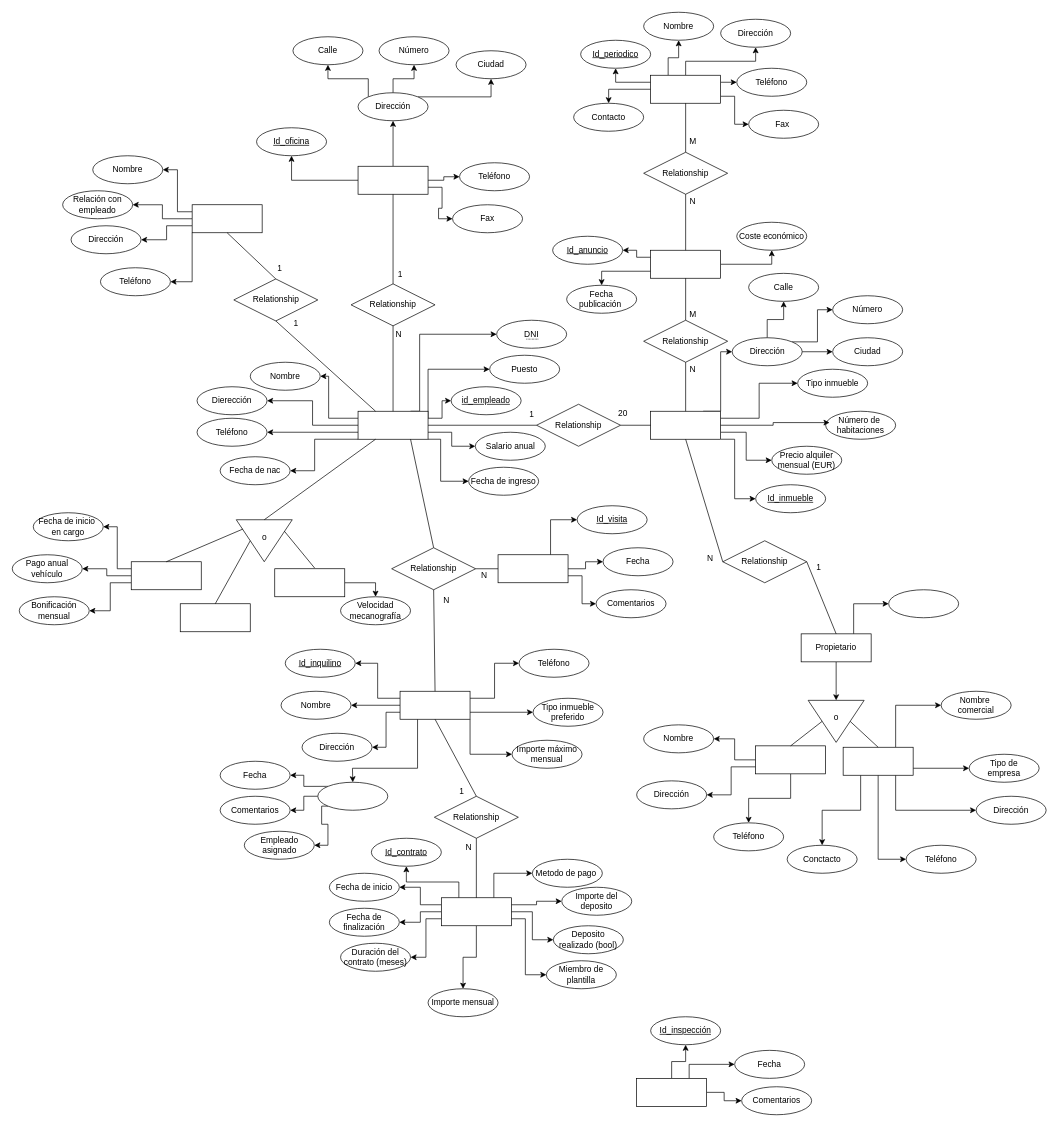
Image size: 1058x1127. Some labels were removed from this diagram. The shapes that lost their labels are listed below. From the top down, each one's box as (x1, y1, x2, y2) in pixels, then its label:
(650, 75, 721, 103): Periódicos
(357, 166, 428, 194): Oficinas
(191, 204, 262, 233): Pariente
(650, 250, 721, 278): Publicidad inmueble
(357, 411, 428, 439): Empleado
(650, 411, 721, 439): Inmueble
(131, 561, 201, 590): Director
(274, 568, 345, 597): Administrativo
(497, 554, 568, 583): Visita inmueble
(180, 603, 250, 632): Supervisor
(888, 589, 959, 618): Id_propetario
(399, 691, 470, 719): Inquilino(clientes)
(755, 745, 826, 774): Particular
(842, 747, 913, 775): Empresa
(317, 782, 388, 810): Entrevista inicial
(441, 897, 511, 926): Contrato de alquiler
(636, 1078, 707, 1106): Inspecciones
